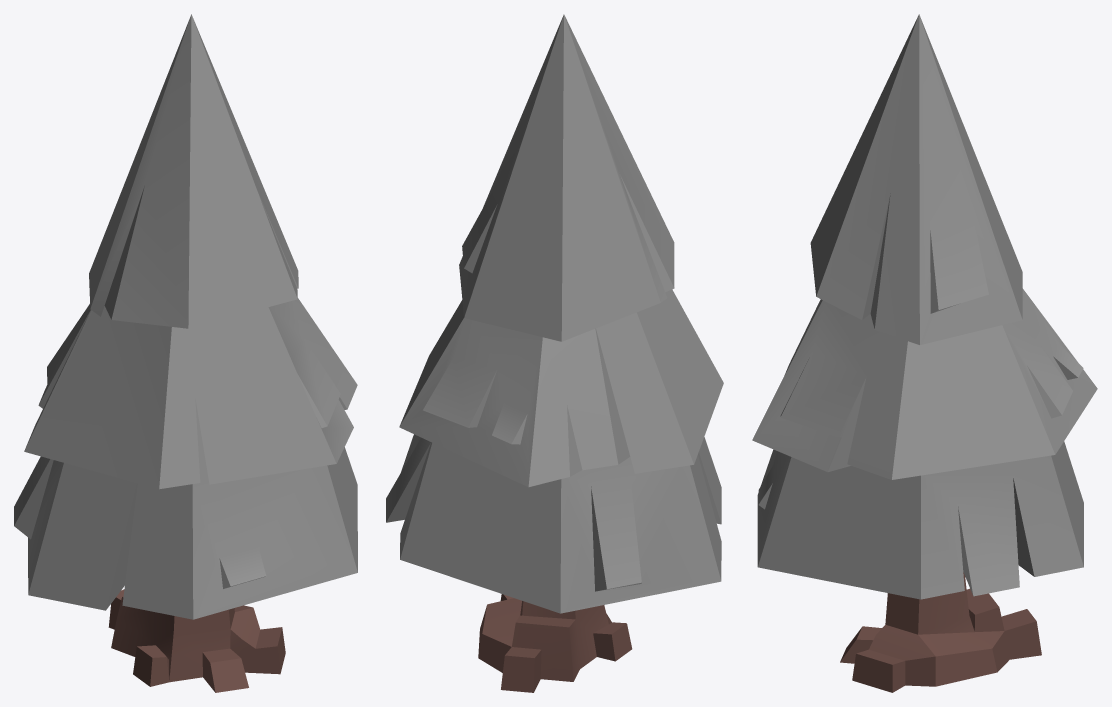
Rendered from Winter Rock_Tree 01.FBX.
3 renders of one model, left to right at view 1: azimuth 30°, elevation 25°; view 2: azimuth 150°, elevation 25°; view 3: azimuth 270°, elevation 25°, orthographic. The views are drawn at different scales.
Parts seen in each view (by area): view 1: Winter Rock_Tree 01; view 2: Winter Rock_Tree 01; view 3: Winter Rock_Tree 01.
Part boxes in pixels (x1,y1,x2,y2): Winter Rock_Tree 01: [14, 14, 357, 692]; Winter Rock_Tree 01: [386, 14, 723, 692]; Winter Rock_Tree 01: [752, 14, 1097, 692].
Bounding box in the file's own units: 17.6 × 33.13 × 16.21.
